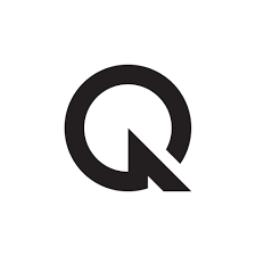q: (58, 60, 200, 200)
